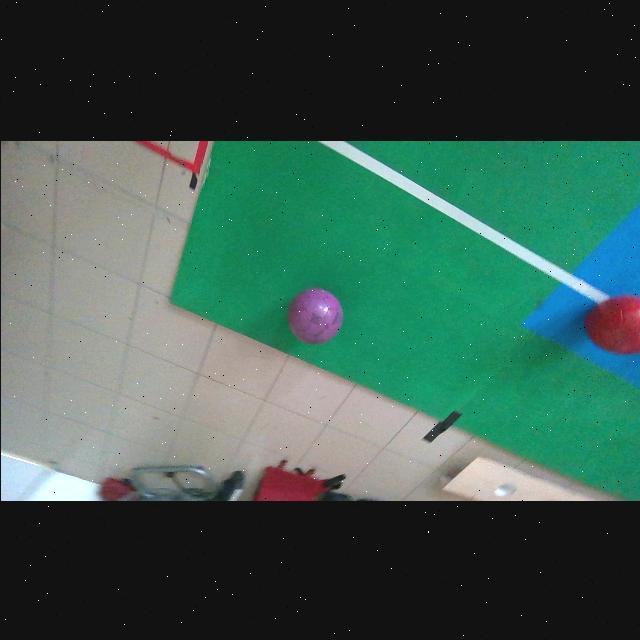P: (286, 288, 342, 343)
R: (583, 296, 640, 353)
